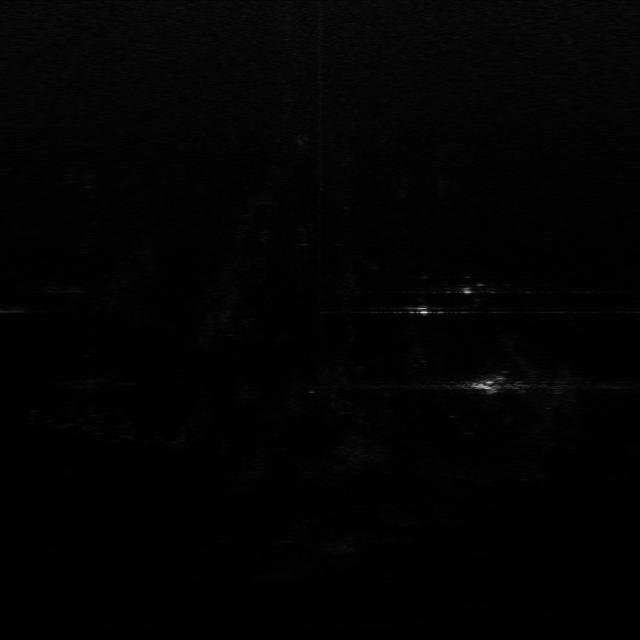rov: (467, 373, 517, 397)
